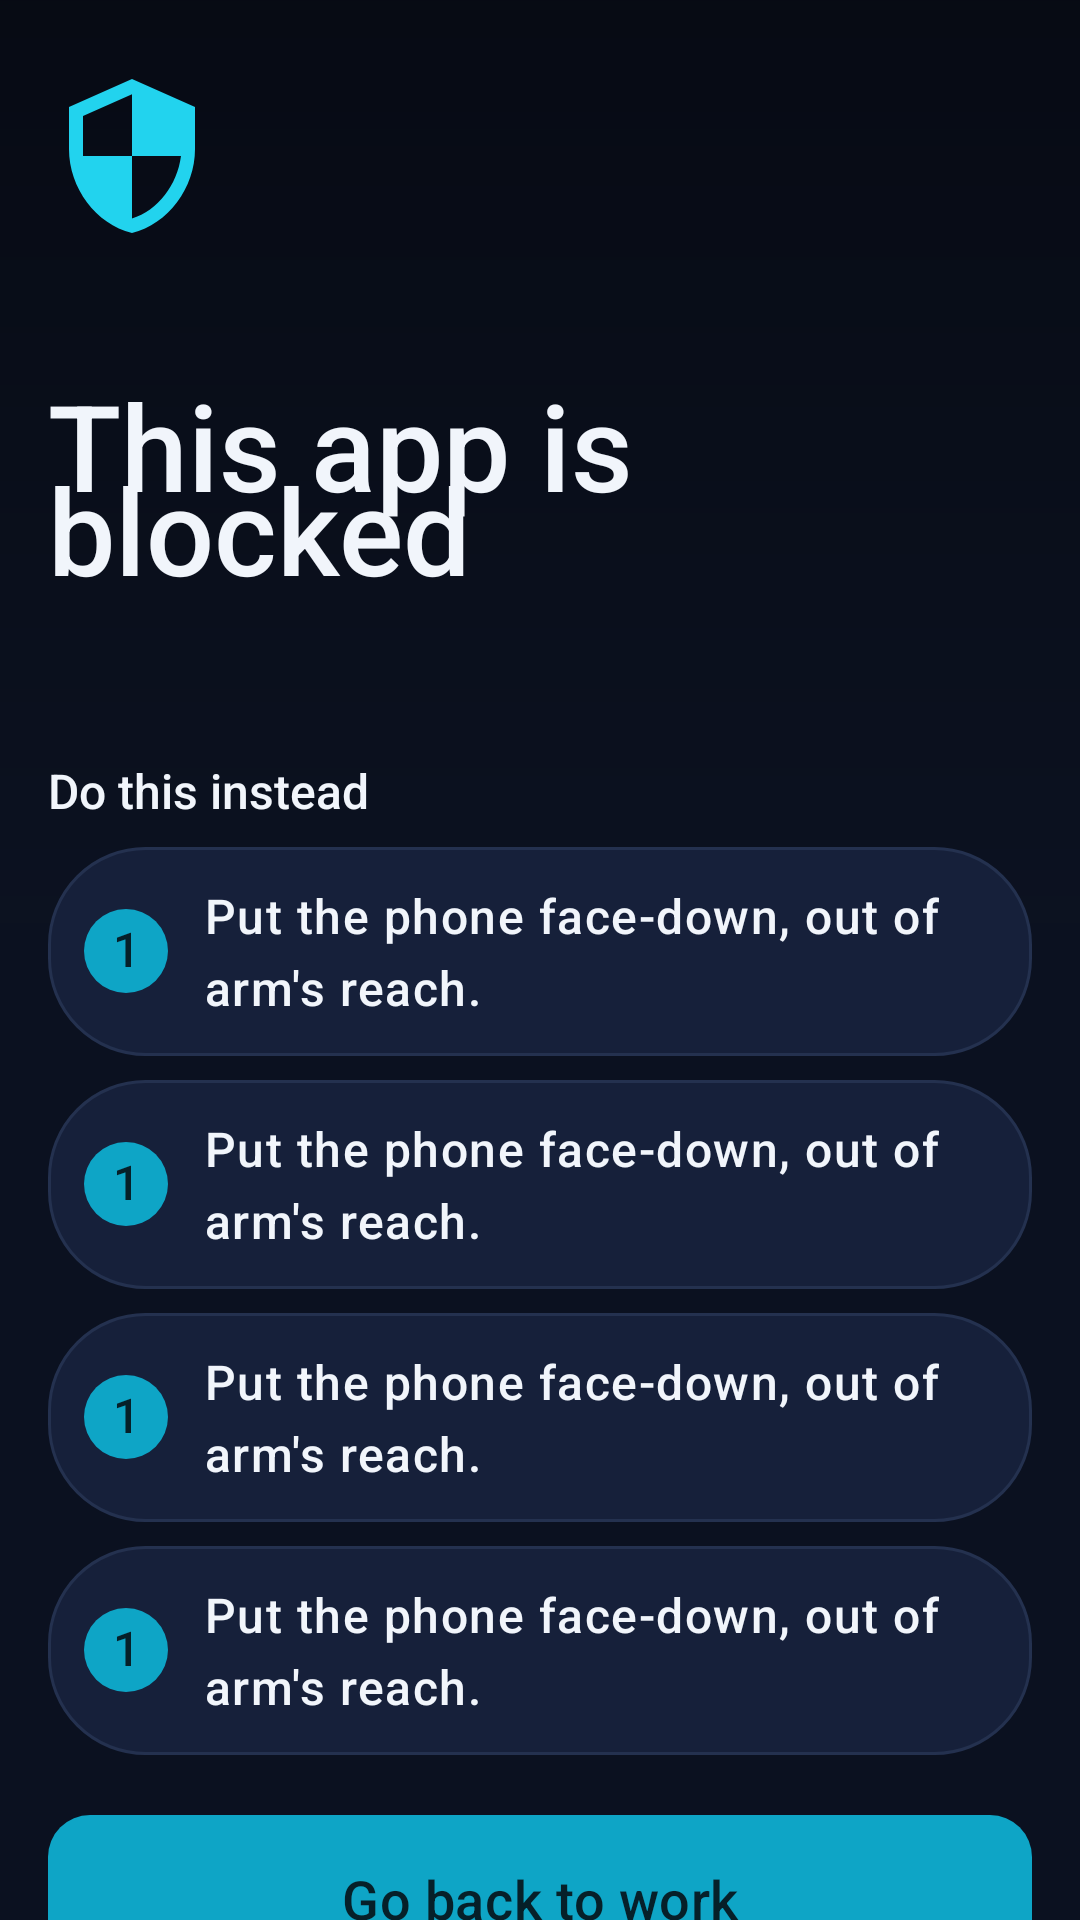

Icon click points for this 1080 × 1920 phone screenshot, format (x=x, y=y):
shield: (x=132, y=156)
